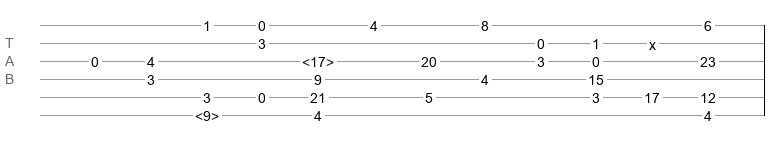0: (91, 54, 99, 64), (258, 18, 266, 28), (258, 90, 266, 100), (537, 36, 545, 46), (592, 54, 600, 64)
1: (203, 18, 211, 28), (592, 36, 600, 46)
12: (700, 90, 716, 100)
15: (588, 72, 604, 82)
17: (644, 90, 660, 100)
20: (421, 54, 437, 64)
21: (310, 90, 326, 100)
23: (700, 54, 716, 64)
3: (147, 72, 155, 82), (203, 90, 211, 100), (258, 36, 266, 46), (537, 54, 545, 64), (592, 90, 600, 100)
4: (147, 54, 155, 64), (314, 108, 322, 118), (370, 18, 378, 28), (481, 72, 489, 82), (704, 108, 712, 118)
5: (425, 90, 433, 100)
6: (704, 18, 712, 28)
8: (481, 18, 489, 28)
9: (314, 72, 322, 82)
harmonic: (302, 54, 334, 64), (195, 108, 219, 118)
x: (649, 37, 656, 45)
